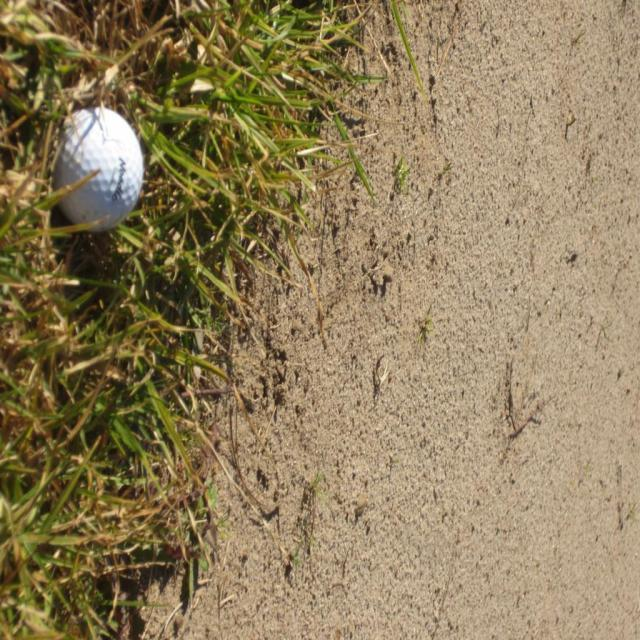GolfBall: (45, 100, 149, 231)
